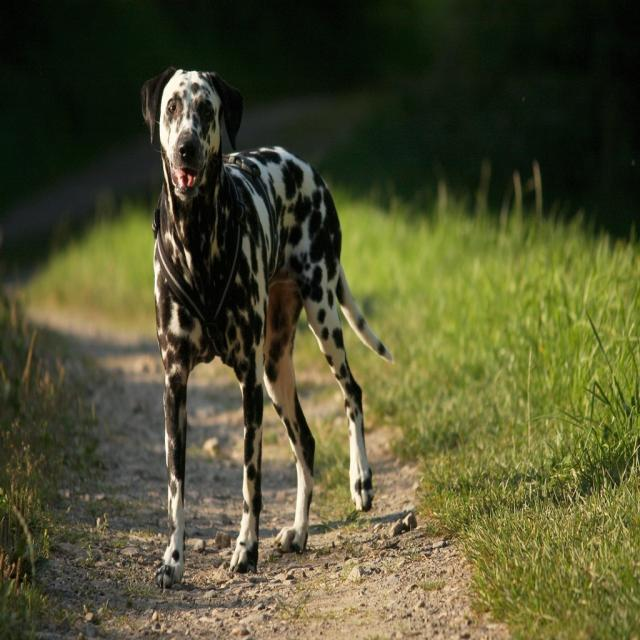Dog: (139, 64, 393, 591)
